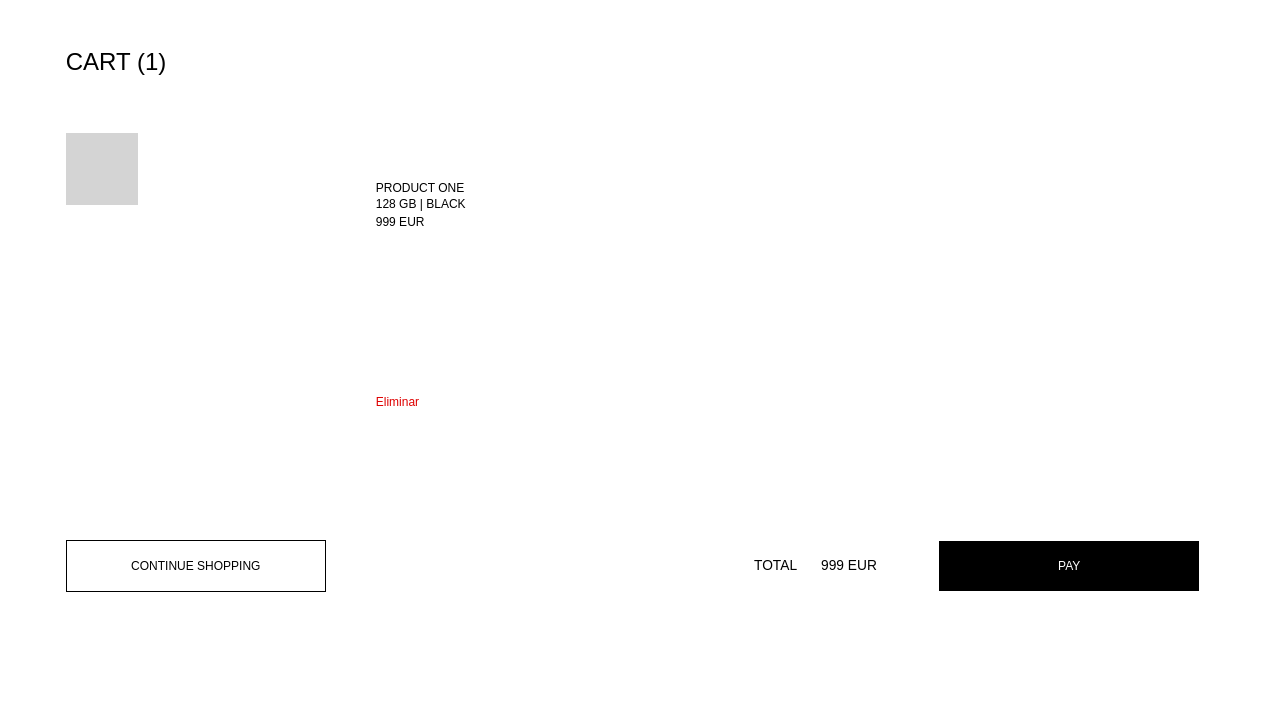
Test case: Cart integration › remove item updates list and total; Continue Shopping links to home
expect the heading "CART (1)" is shown: met, box left=66, top=48, right=166, bottom=75
expect the heading "Product One" is shown: met, box left=376, top=181, right=466, bottom=195
Click the button with aria-label "Eliminar Product One" at coordinates (397, 402), box left=376, top=395, right=419, bottom=409
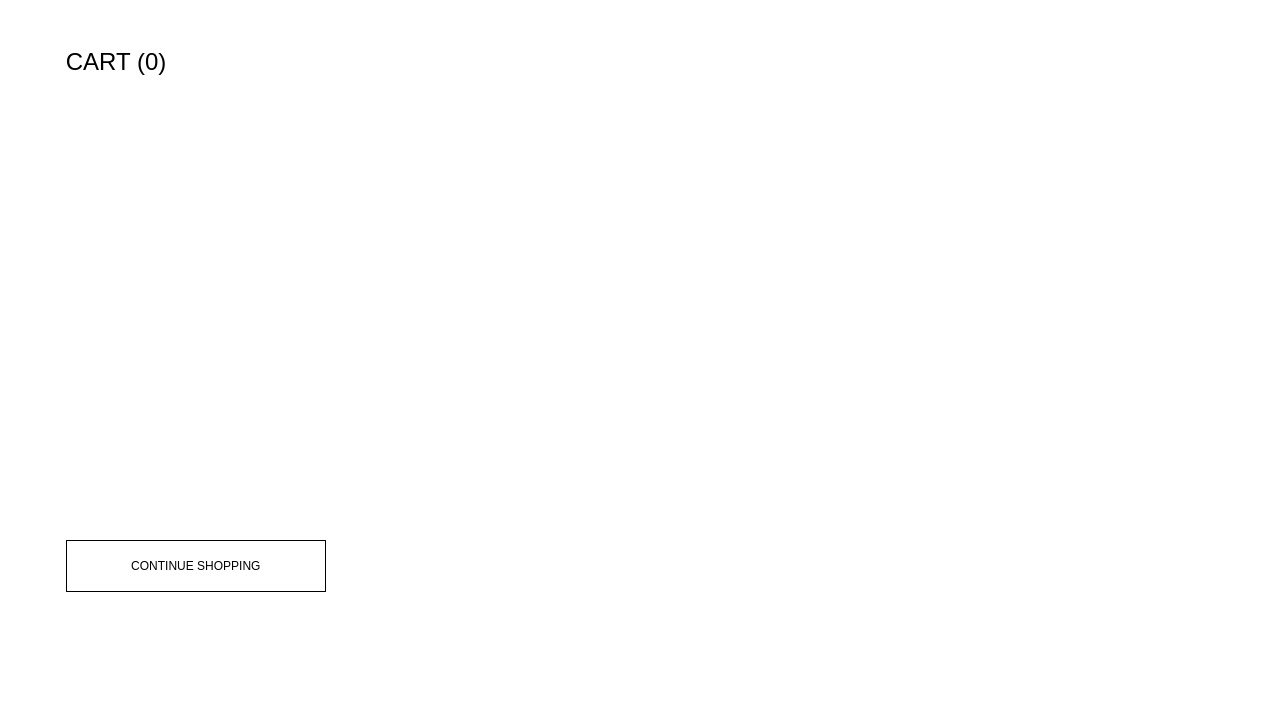
expect the heading "CART (0)" is shown: met, box left=66, top=48, right=166, bottom=75
expect the link "Product One" is gone: met
expect the text "Total" is gone: met
